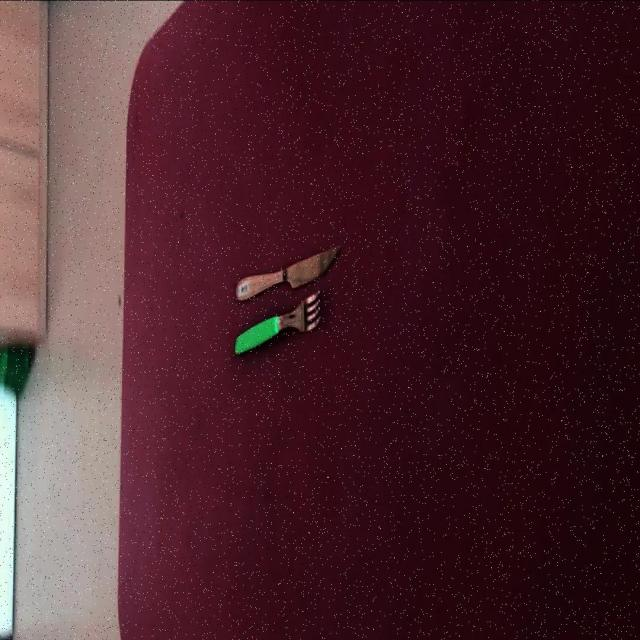Fork: (235, 241, 340, 299), (234, 288, 321, 354)
Knife: (234, 241, 341, 299), (234, 288, 321, 354)
